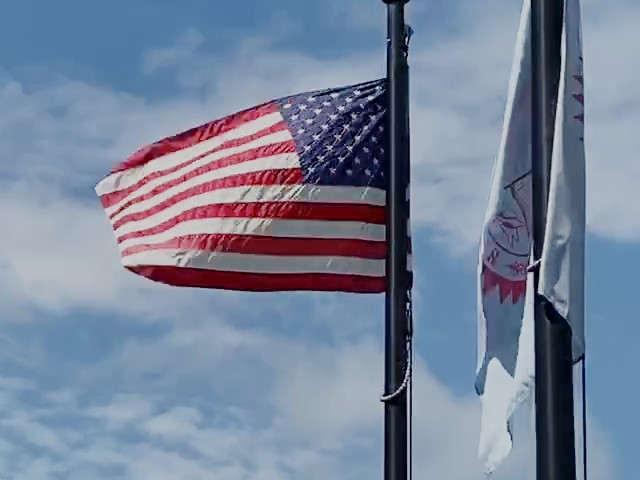America flag: (93, 82, 392, 294)
